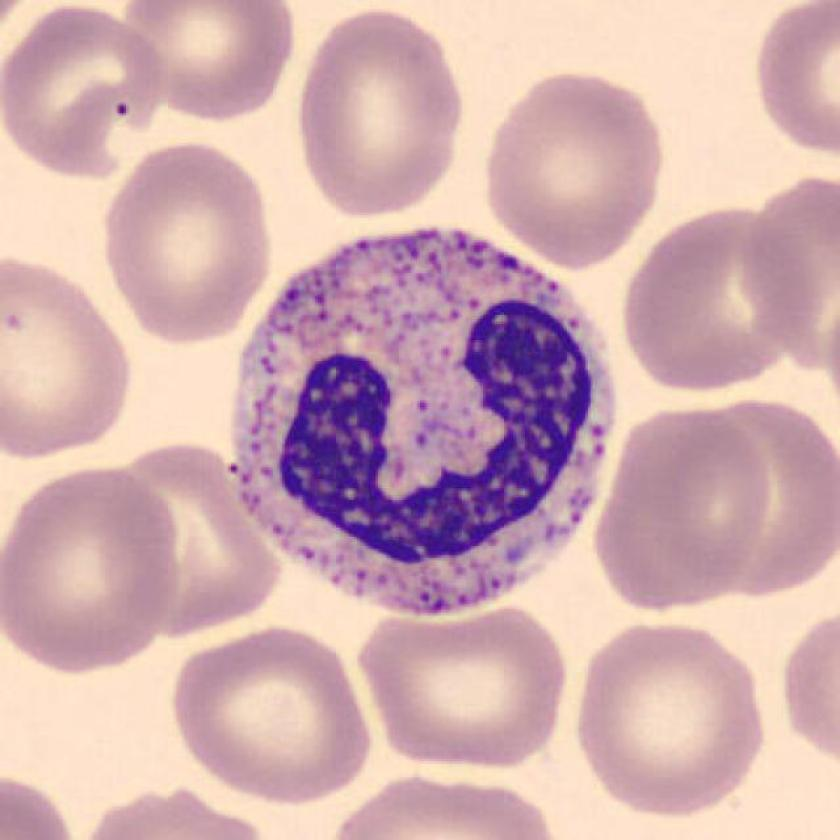neutrophil: (234, 230, 617, 612)
